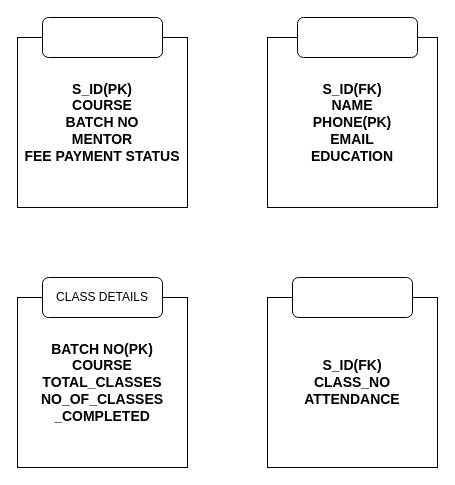
Some shapes in this 455 by 485 pixel diagram are drawn without their labels. The shapes that lost their labels are listed below. From the top down, each one's centre as x and y in pixels, then its label:
the point at 102,37: STUDENTS
the point at 357,37: STUDENTS PERSONAL
the point at 352,297: ATTENDANCE
